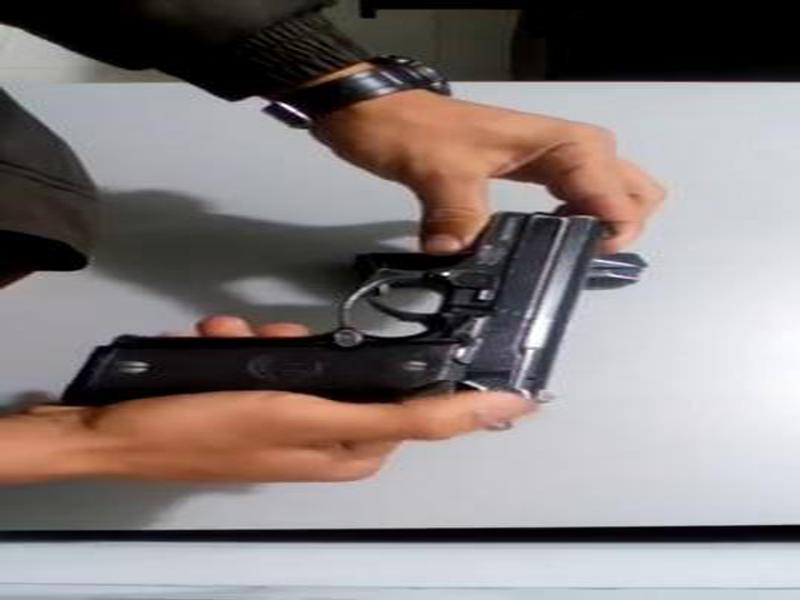Pistola: (66, 204, 629, 410)
